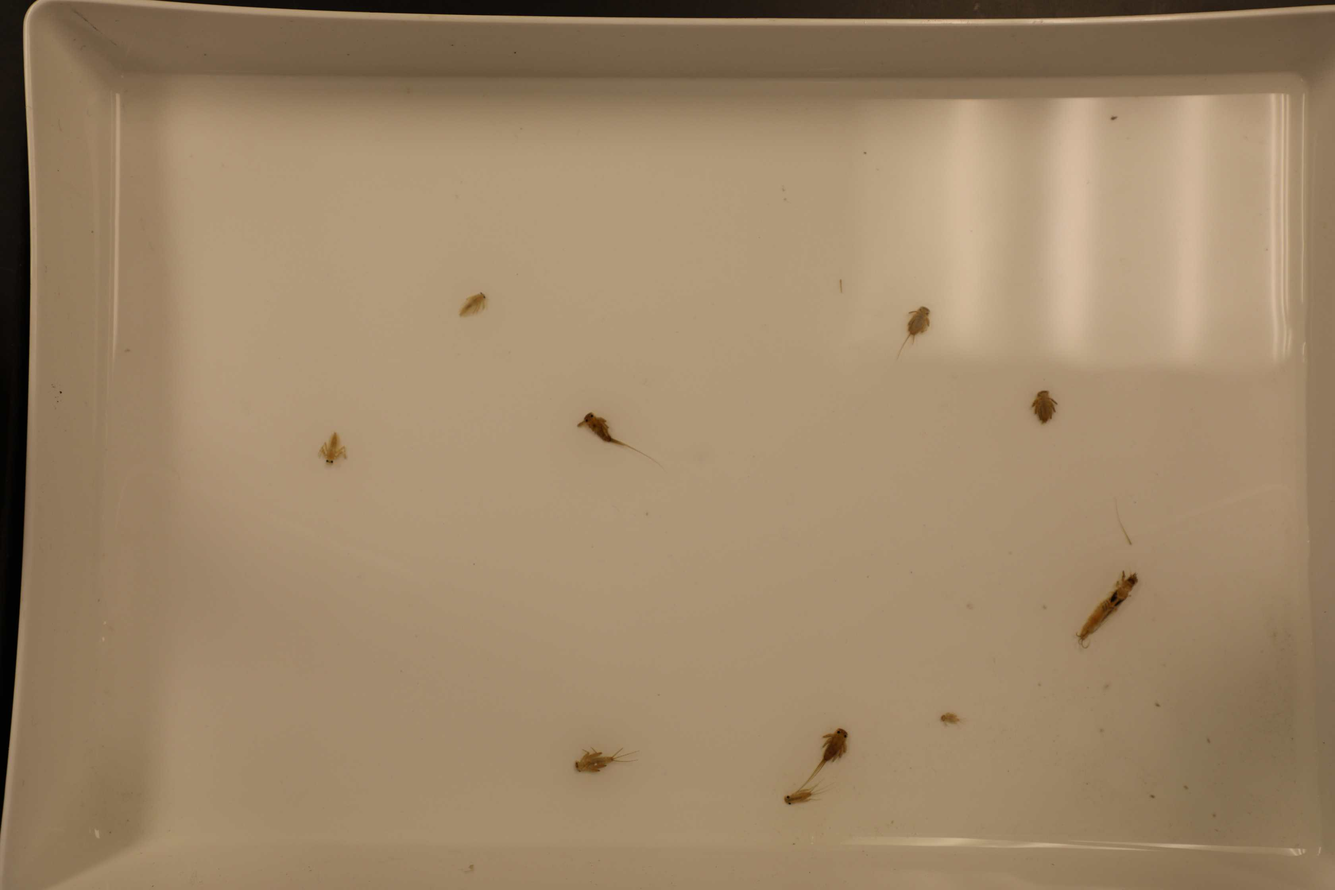Mayfly: (579, 409, 667, 474), (1074, 568, 1141, 652), (794, 726, 850, 788), (889, 304, 934, 356), (567, 739, 626, 776), (313, 428, 348, 471), (458, 286, 487, 319), (1030, 390, 1055, 428), (775, 790, 816, 809), (937, 708, 970, 729)
